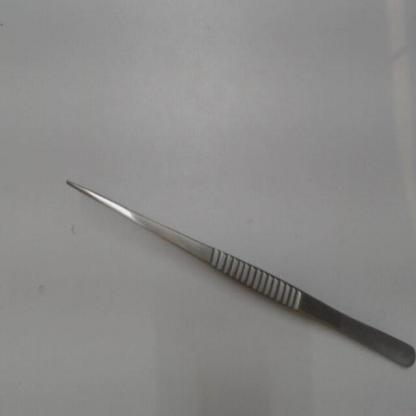DeBakey Dissector: (47, 169, 416, 381)
